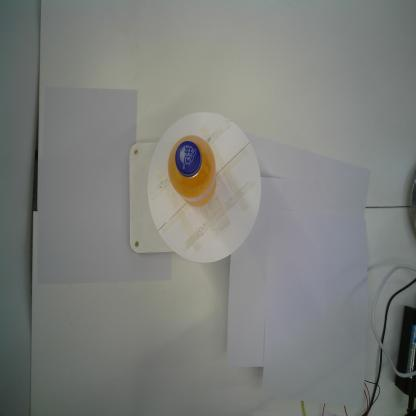Drink: (168, 134, 216, 207)
